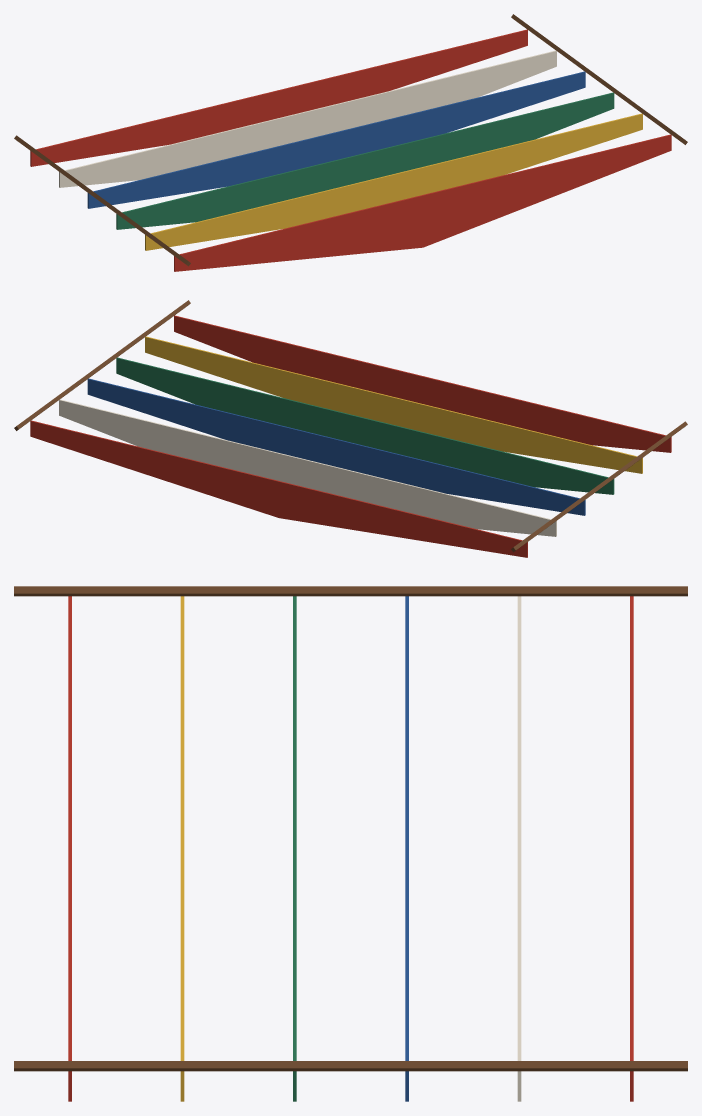
Rendered from markis.glb.
The picture shows the model from 3 angles, top to bottom: view 1: azimuth 30°, elevation 25°; view 2: azimuth 150°, elevation 25°; view 3: azimuth 270°, elevation 25°; orthographic projection. The views are drawn at different scales.
Visible parts, largest first — view 1: markis; view 2: markis; view 3: markis.
Boxes of the visible parts, box(x1,y1,x2,y2) form: markis: box(14, 14, 687, 271); markis: box(14, 300, 687, 557); markis: box(14, 586, 687, 1101).
Bounding box in the file's own units: 10.1 × 1.1 × 6.
